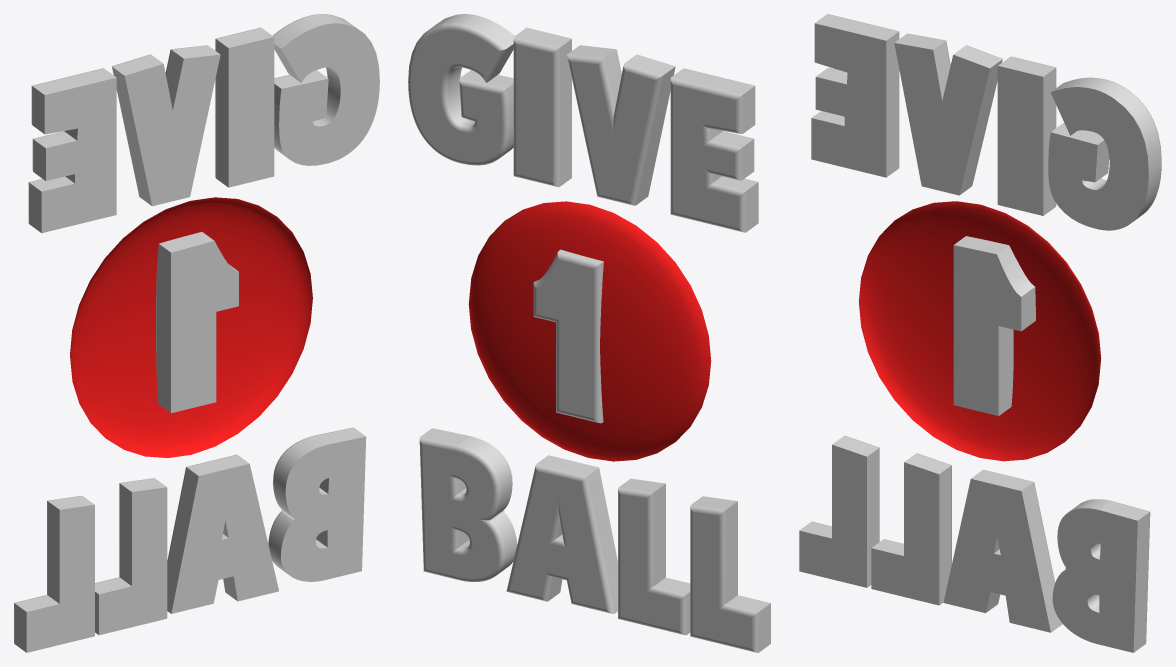
Rendered from Give1Ball.fbx.
3 renders of one model, left to right at view 1: azimuth 30°, elevation 25°; view 2: azimuth 150°, elevation 25°; view 3: azimuth 330°, elevation 25°, orthographic.
Visible parts, largest first — view 1: Sphere001; view 2: Sphere001; view 3: Sphere001.
Boxes of the visible parts, x1,y1,x2,y2 form: Sphere001: (14, 14, 379, 652); Sphere001: (408, 14, 770, 652); Sphere001: (799, 14, 1161, 652).
Size of the model in its own units: 41.88 by 4.92 by 63.38.
